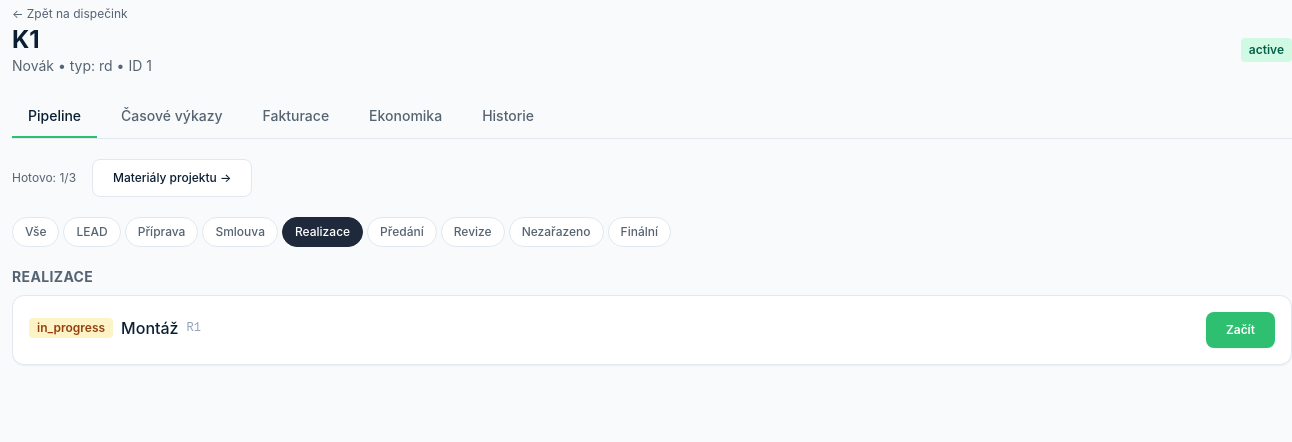
Test case: PipelineDetail — sub-taby fází › scroll k cílovému kroku proběhne jen jednou, ani po akci na krok
Expected: the text "Montáž" is shown, [121, 316, 179, 340]
Click the button "Začít" at (1240, 330), box [1206, 312, 1275, 348]
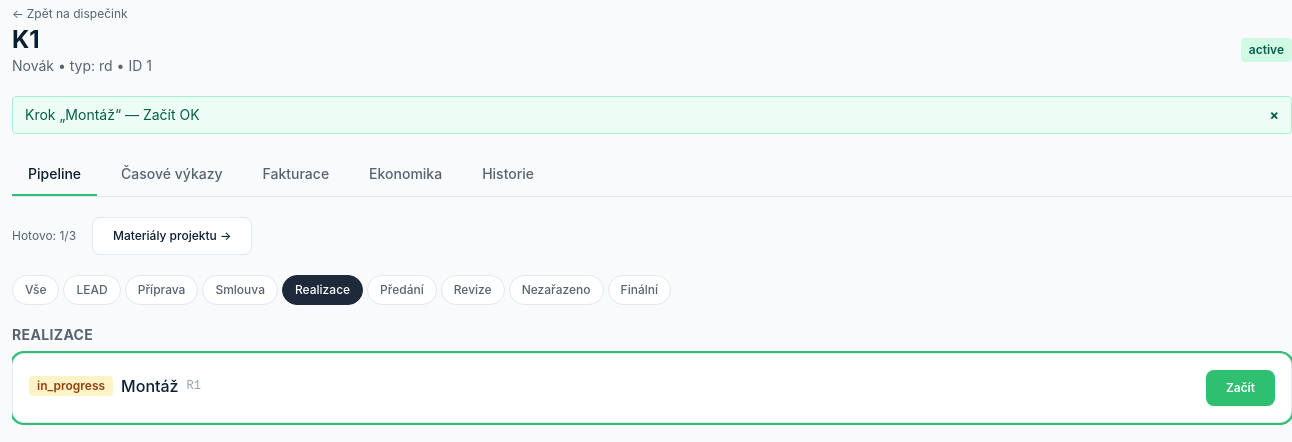
Now the text "Krok „Montáž“ — Začít OK" is shown, box [25, 105, 200, 125]
